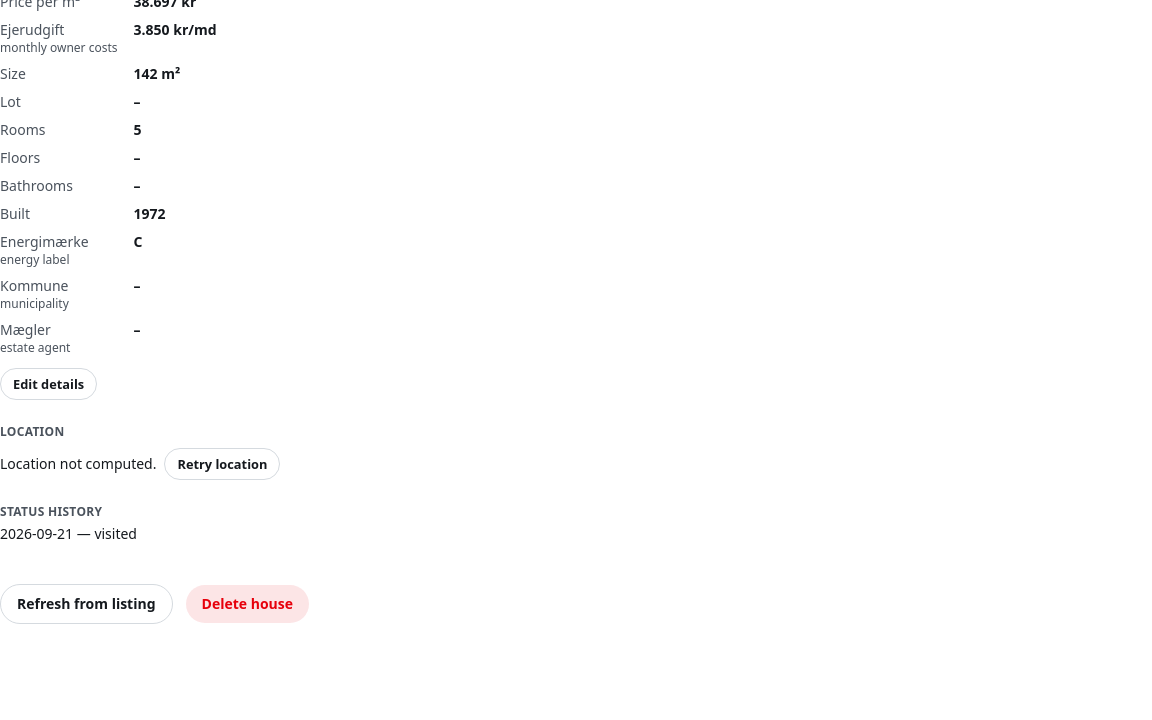
it: refresh re-reads the listing, re-locates the house and waits for the new photos
(page scrolled)
Click the button "Refresh from listing": (86, 604) 0,584 -> 172,624
(page scrolled)
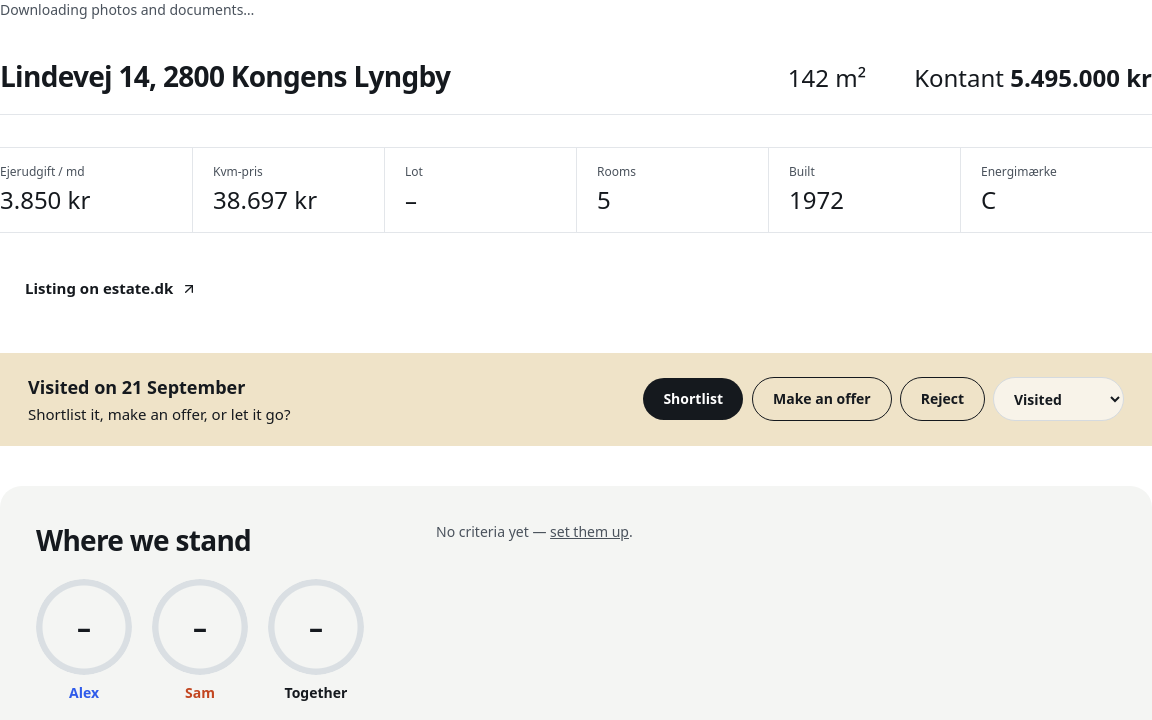
Expected: the text "Downloading photos and documents…" is shown, 0,0 -> 254,19
